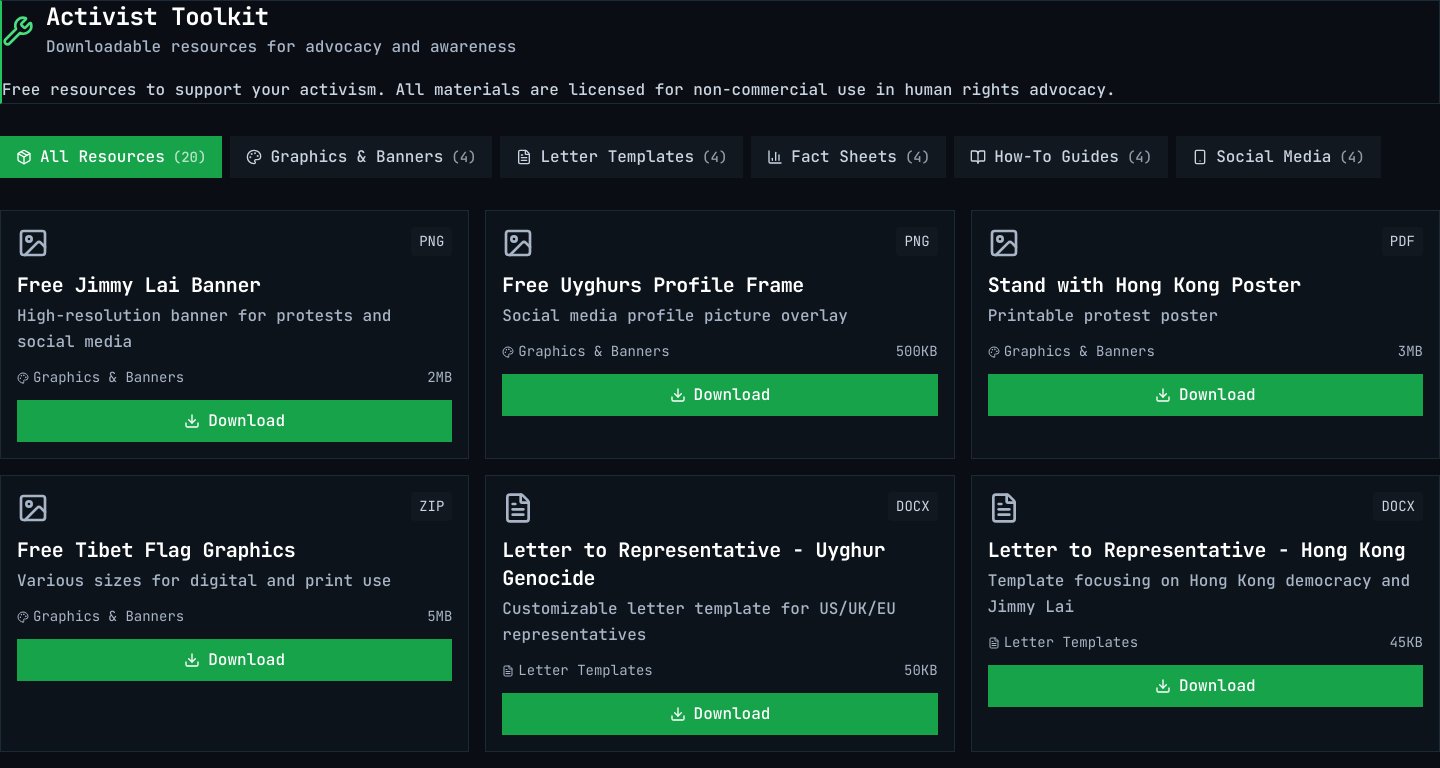
Test: ActivistToolkit › filters resources by Fact Sheets category
The width and height of the screenshot is (1440, 768).
Click the text "Fact Sheets" at (844, 157), box 791,144 -> 897,170
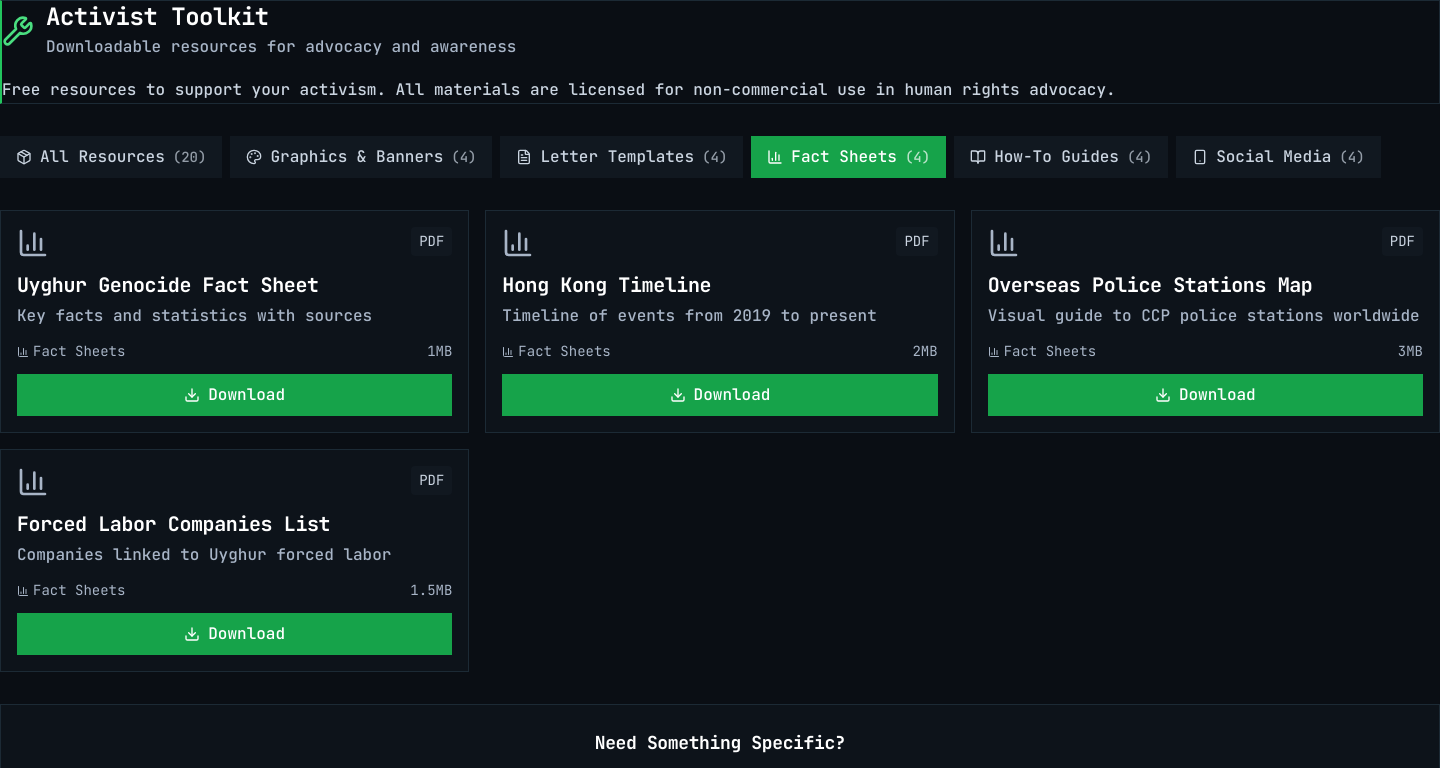
Expected: the heading "Uyghur Genocide Fact Sheet" is shown, 17,272 -> 319,298
Result: the text "Download" is shown 4 times at 208,382 -> 285,408; 694,382 -> 770,408; 1179,382 -> 1256,408; 208,621 -> 285,647
